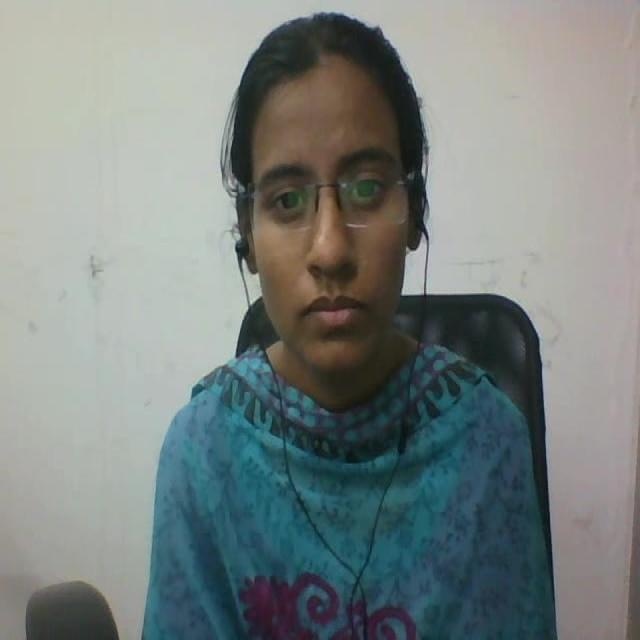Engaged: (207, 14, 446, 377)
